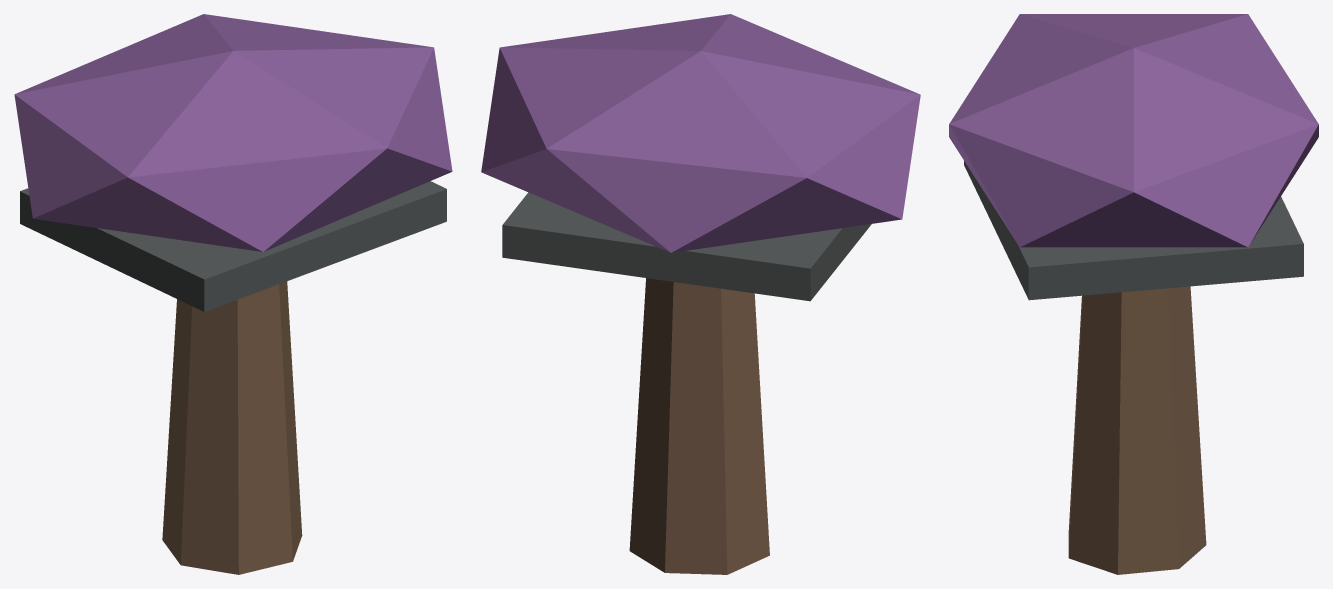
Rendered from df_mushroom_blocker_a.glb.
3 views of the same model, side by side, from view 1: azimuth 30°, elevation 25°; view 2: azimuth 150°, elevation 25°; view 3: azimuth 270°, elevation 25° (orthographic).
Visible parts, largest first — view 1: cap, stalk, cap_shadow; view 2: cap, stalk, cap_shadow; view 3: cap, stalk, cap_shadow.
Part boxes in pixels (x1=…): cap: x1=14, y1=14, x2=452, y2=251; stalk: x1=162, y1=281, x2=302, y2=574; cap_shadow: x1=20, y1=181, x2=446, y2=311; cap: x1=481, y1=14, x2=920, y2=252; stalk: x1=629, y1=278, x2=769, y2=574; cap_shadow: x1=502, y1=192, x2=871, y2=301; cap: x1=949, y1=14, x2=1318, y2=247; stalk: x1=1068, y1=286, x2=1206, y2=574; cap_shadow: x1=964, y1=161, x2=1303, y2=300.
Size of the model in its own units: 1.03 by 1.21 by 0.8166.
